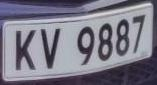7: (129, 12, 147, 53)
8: (113, 16, 132, 56), (96, 20, 114, 62)
9: (76, 23, 96, 67)
K: (12, 26, 40, 77)
V: (39, 26, 65, 71)
